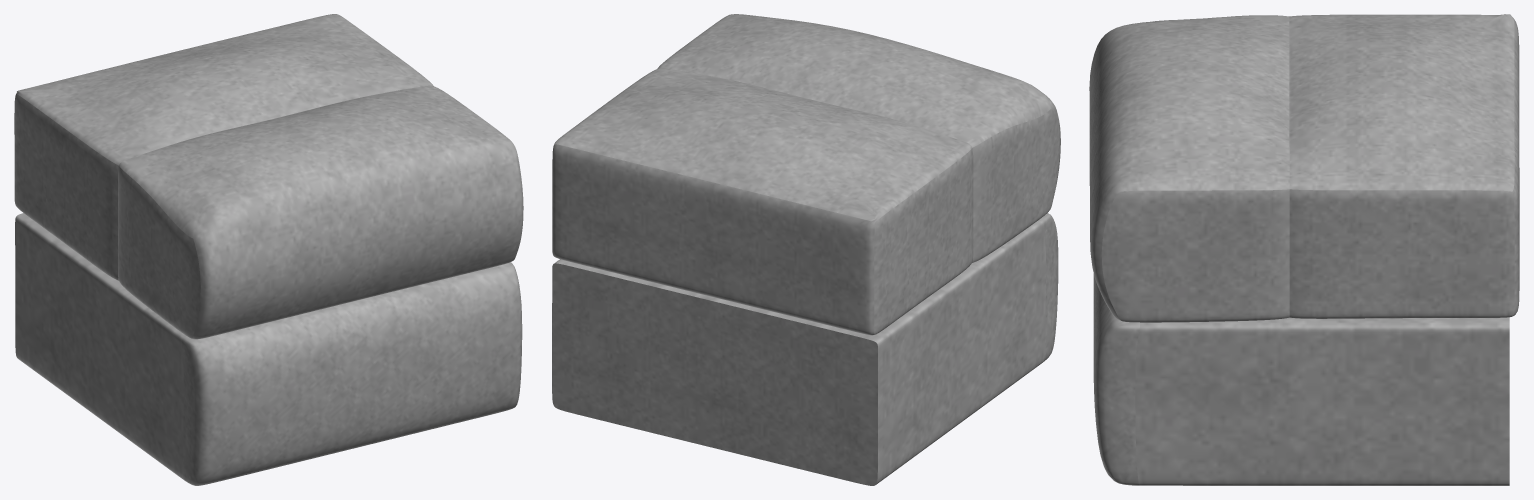
Rendered from sofa_long_part.glb.
The picture shows the model from 3 angles, left to right: view 1: azimuth 30°, elevation 25°; view 2: azimuth 150°, elevation 25°; view 3: azimuth 270°, elevation 25°; orthographic projection. The views are drawn at different scales.
Visible parts, largest first — view 1: SofaLongPart; view 2: SofaLongPart; view 3: SofaLongPart.
Boxes of the visible parts, x1,y1,x2,y2 form: SofaLongPart: (14, 14, 523, 485); SofaLongPart: (552, 14, 1060, 485); SofaLongPart: (1089, 14, 1519, 485).
Bounding box in the file's own units: 0.55 × 0.4719 × 0.5642.
Materials: 1 (1 with a texture image).
